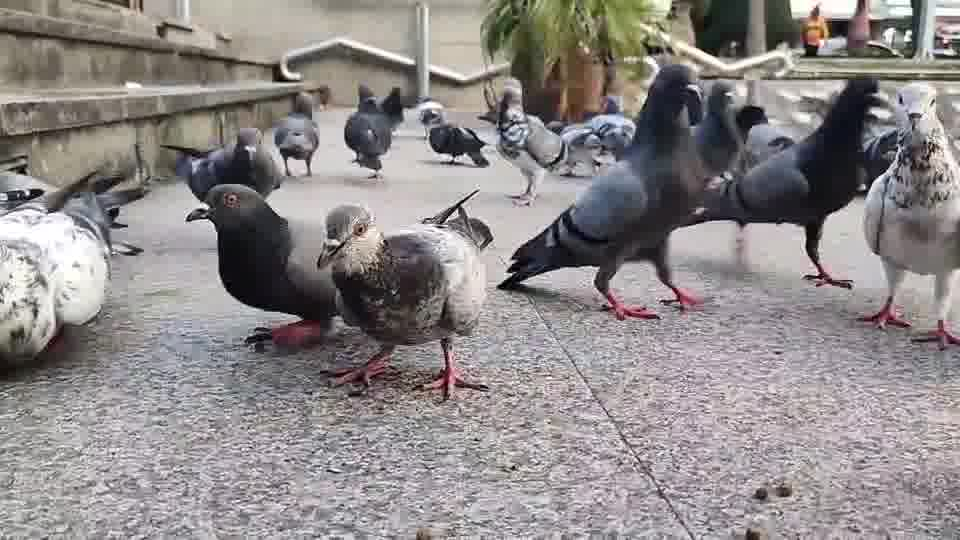Pigeon: (495, 62, 707, 321), (685, 74, 885, 290), (314, 186, 495, 396), (0, 155, 149, 365), (857, 81, 959, 350), (184, 182, 343, 347), (479, 78, 567, 207), (159, 126, 282, 204), (342, 82, 420, 180), (414, 96, 490, 167), (271, 90, 320, 177)
